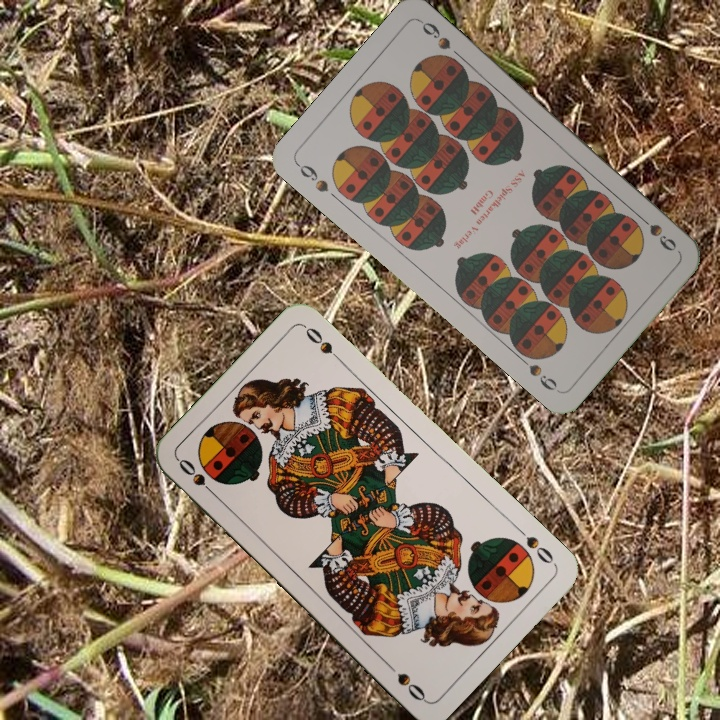S9: (632, 209, 679, 254), (292, 159, 331, 196)
SO: (174, 454, 221, 501), (512, 522, 558, 567)
